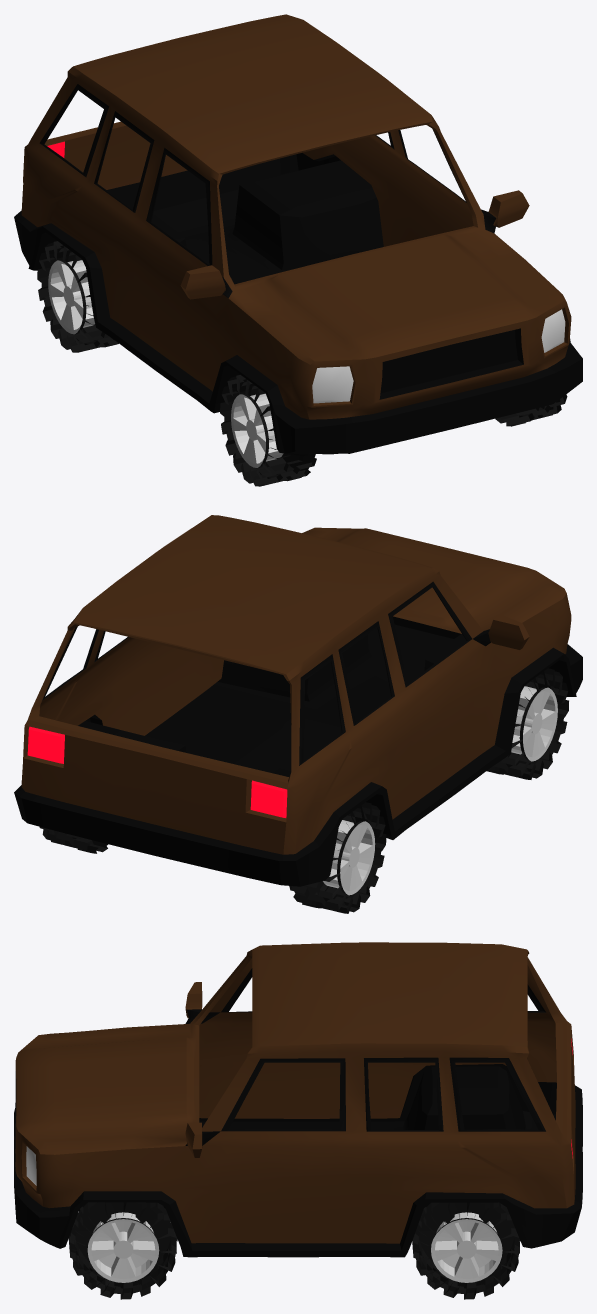
The model's file is game_jam_car (4).fbx.
3 renders of one model, top to bottom at view 1: azimuth 30°, elevation 25°; view 2: azimuth 150°, elevation 25°; view 3: azimuth 270°, elevation 25°, orthographic. The views are drawn at different scales.
Visible parts, largest first — view 1: Cube, Cube.003, Cube.001, Cube.005; view 2: Cube, Cube.001, Cube.003, Cube.004; view 3: Cube, Cube.005, Cube.004.
Boxes of the visible parts, bbox=[...] form: Cube: bbox=[14, 14, 582, 456]; Cube.003: bbox=[220, 375, 316, 486]; Cube.001: bbox=[37, 241, 118, 352]; Cube.005: bbox=[495, 394, 567, 426]; Cube: bbox=[14, 515, 582, 886]; Cube.001: bbox=[289, 802, 386, 913]; Cube.003: bbox=[486, 668, 568, 779]; Cube.004: bbox=[39, 827, 107, 853]; Cube: bbox=[14, 942, 582, 1257]; Cube.005: bbox=[68, 1202, 177, 1299]; Cube.004: bbox=[412, 1202, 520, 1299].
Size of the model in its own units: 1043 by 751 by 1591.
